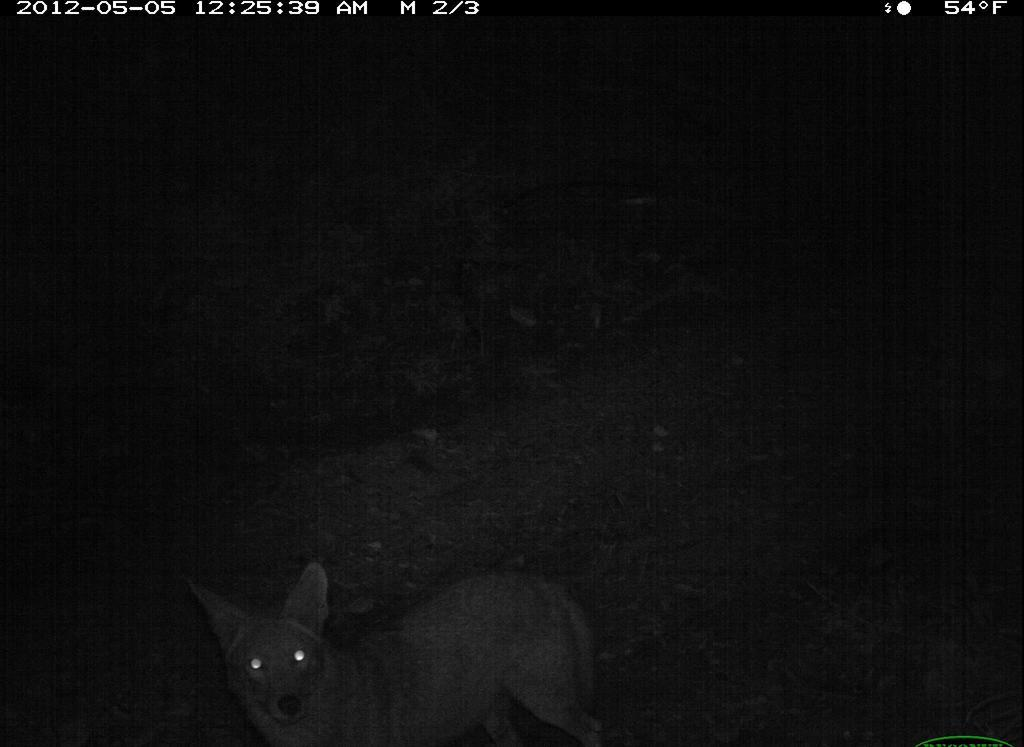coyote: (178, 550, 619, 745)
